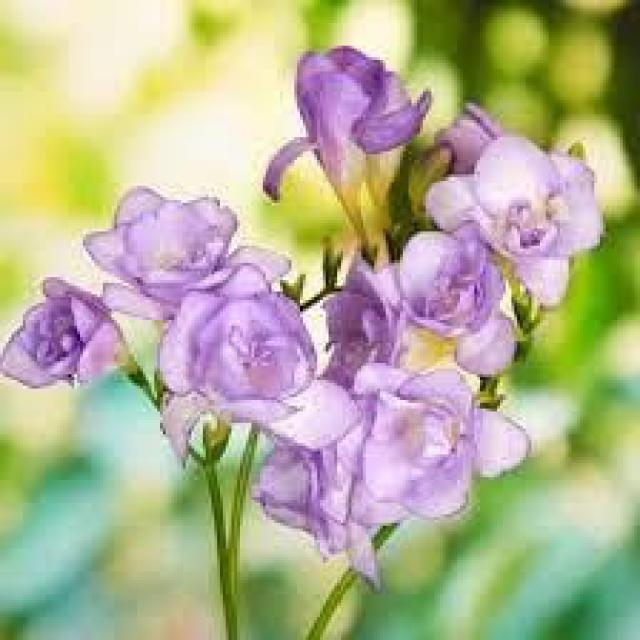freesia: (331, 353, 543, 545), (426, 132, 620, 312), (164, 268, 330, 421), (97, 184, 273, 320), (4, 263, 130, 401)
